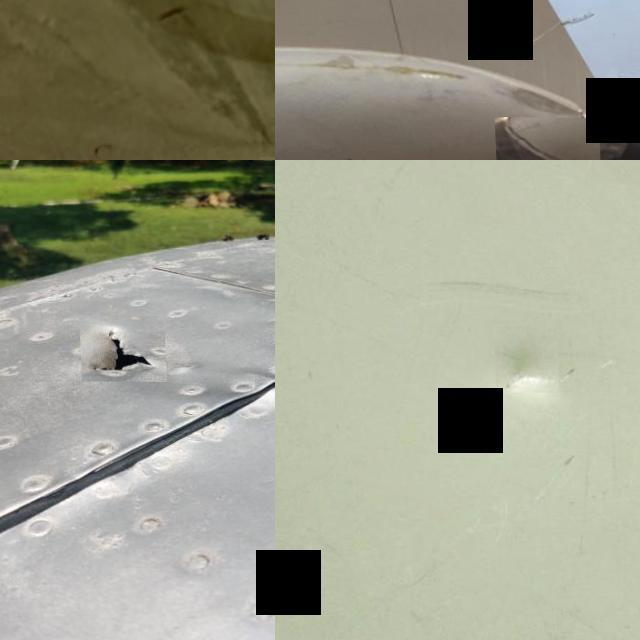Crack: (76, 316, 164, 382), (492, 116, 598, 160)
Dent: (492, 341, 555, 392)
